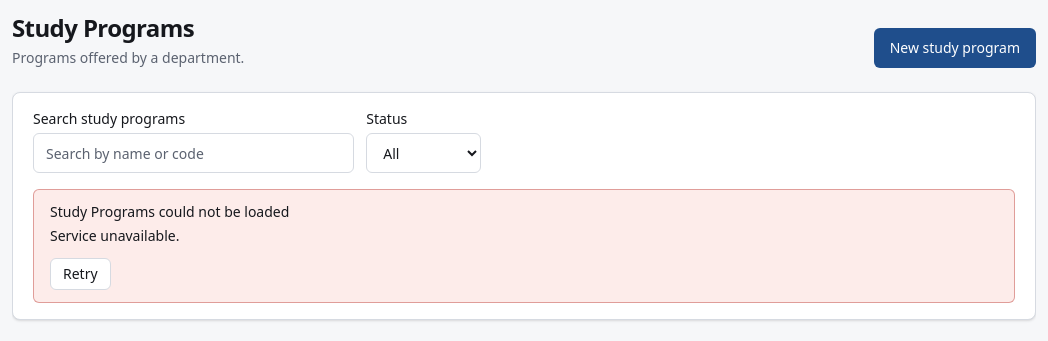
Test: academic resource page — listing › offers a retry after a load failure
The image size is (1048, 341).
Expected: the text "Service unavailable." is shown, [50, 226, 179, 245]
Click the button "Retry".
click(80, 274)  # box [50, 258, 111, 290]
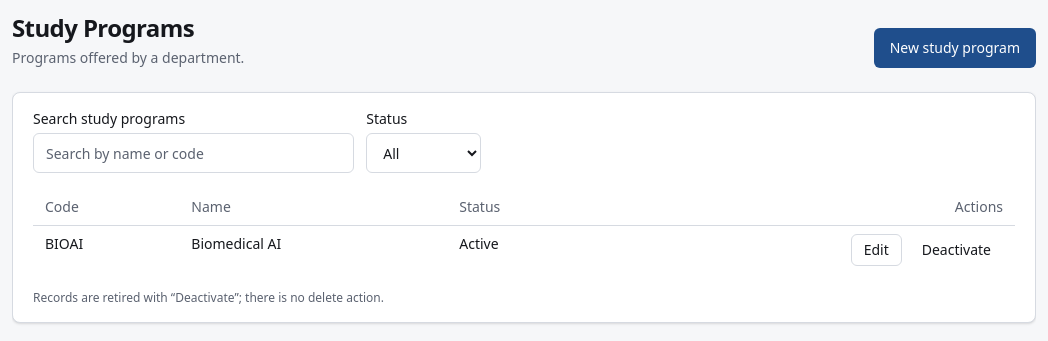
Expected: the text "BIOAI" is shown, [33, 226, 179, 274]
